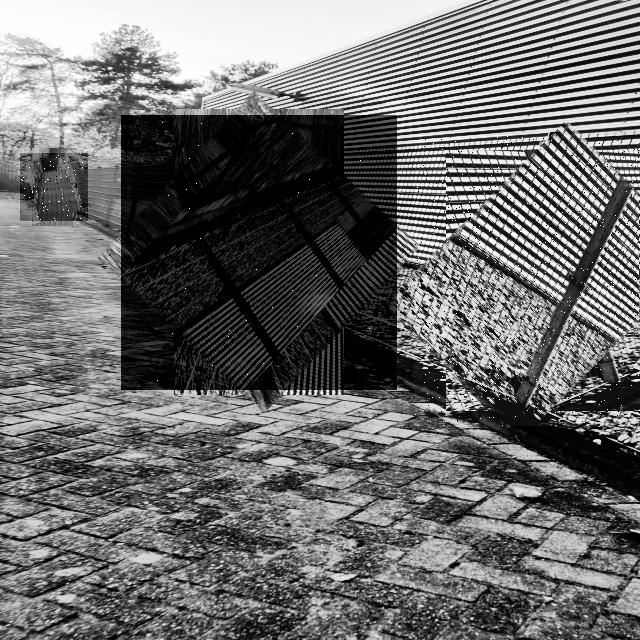fences: (121, 115, 397, 390), (414, 135, 640, 426), (20, 153, 88, 221)
